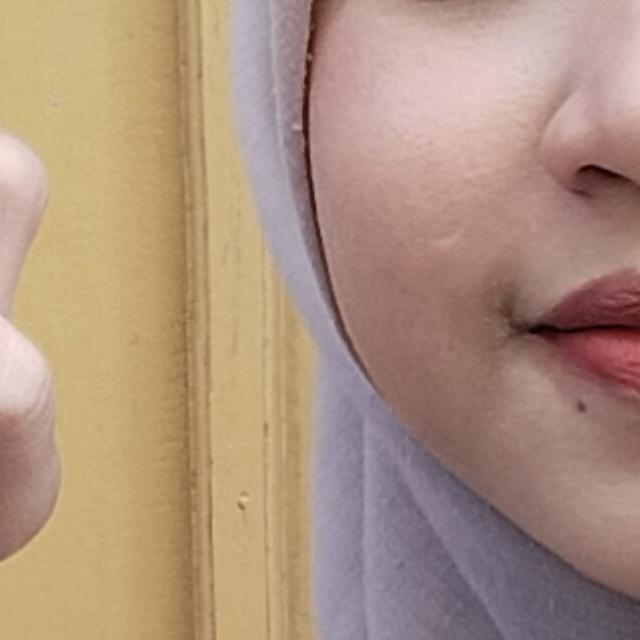baik: (0, 78, 410, 640)
